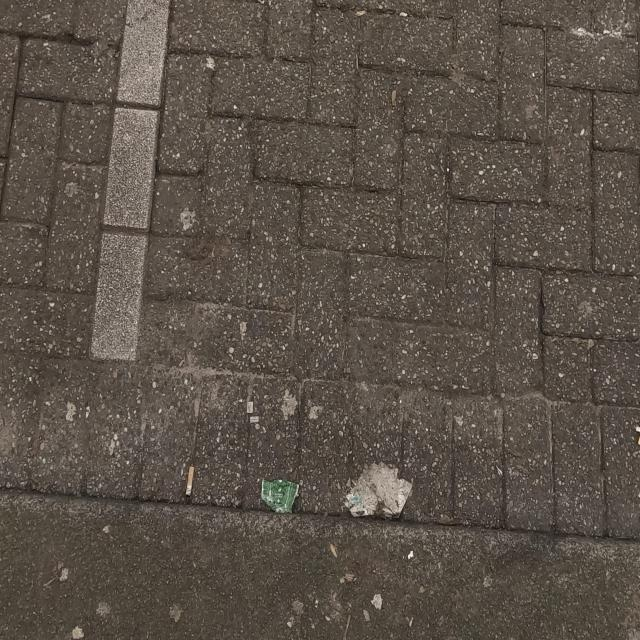Paper: (344, 460, 412, 519)
Plastic: (262, 478, 300, 514)
